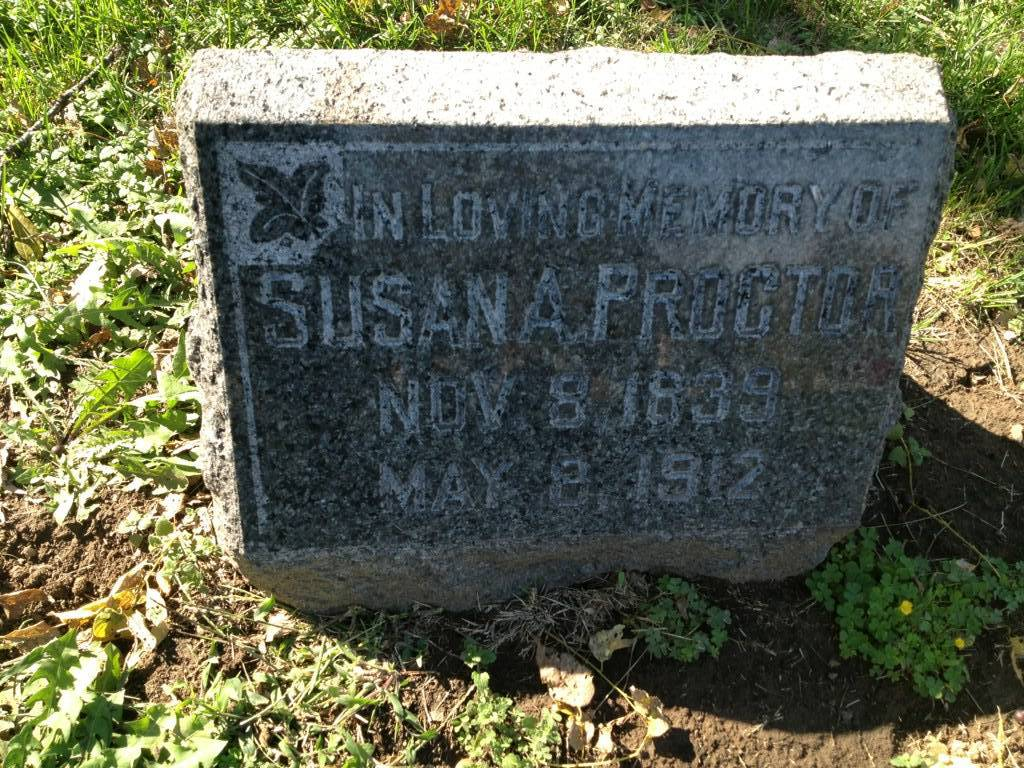upright: (172, 43, 953, 598)
